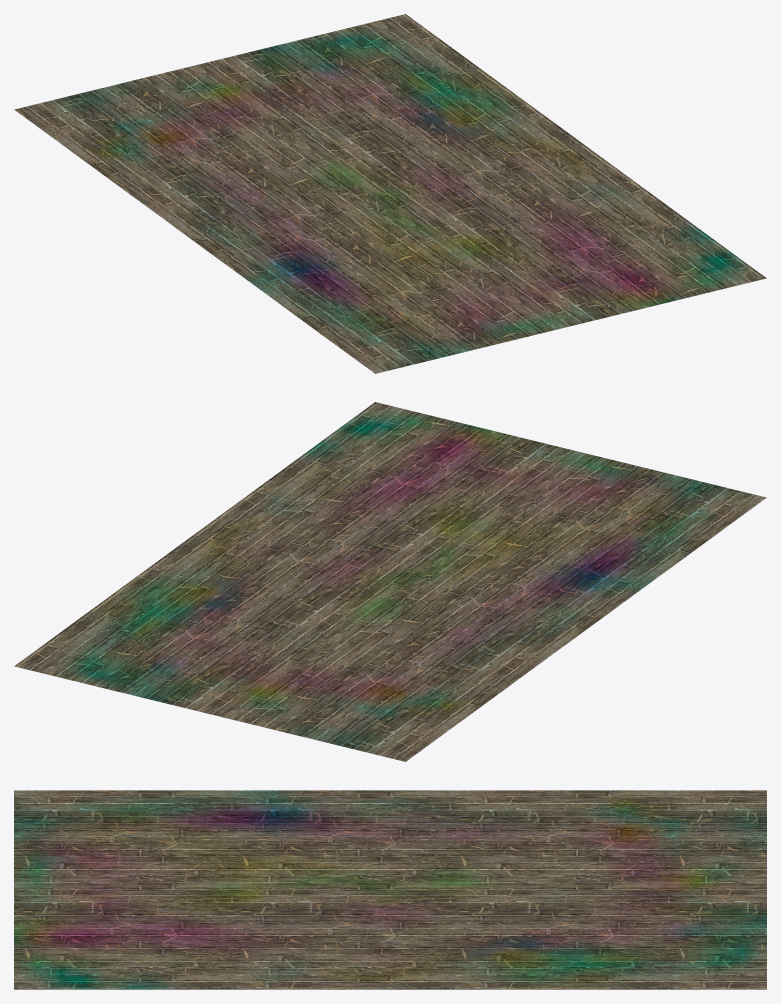
3 views of the same model, one above another, from view 1: azimuth 30°, elevation 25°; view 2: azimuth 150°, elevation 25°; view 3: azimuth 270°, elevation 25° (orthographic). The views are drawn at different scales.
Parts seen in each view (by area): view 1: SM_Ground_LOD0; view 2: SM_Ground_LOD0; view 3: SM_Ground_LOD0.
Part boxes in pixels (<box>): SM_Ground_LOD0: <box>14,14,766,373</box>; SM_Ground_LOD0: <box>14,402,766,761</box>; SM_Ground_LOD0: <box>14,790,766,989</box>.
Size of what is drawn, in the model's own units: 8.64 by 3.19e-07 by 13.8.
